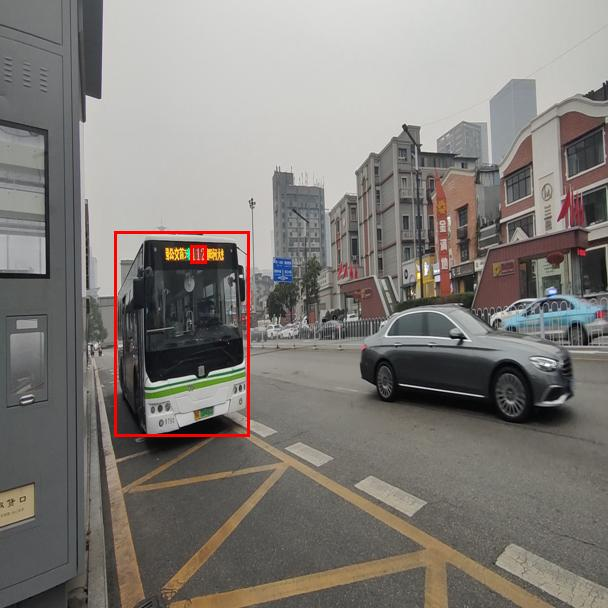bus: (114, 231, 249, 436)
screen: (190, 245, 206, 263)
